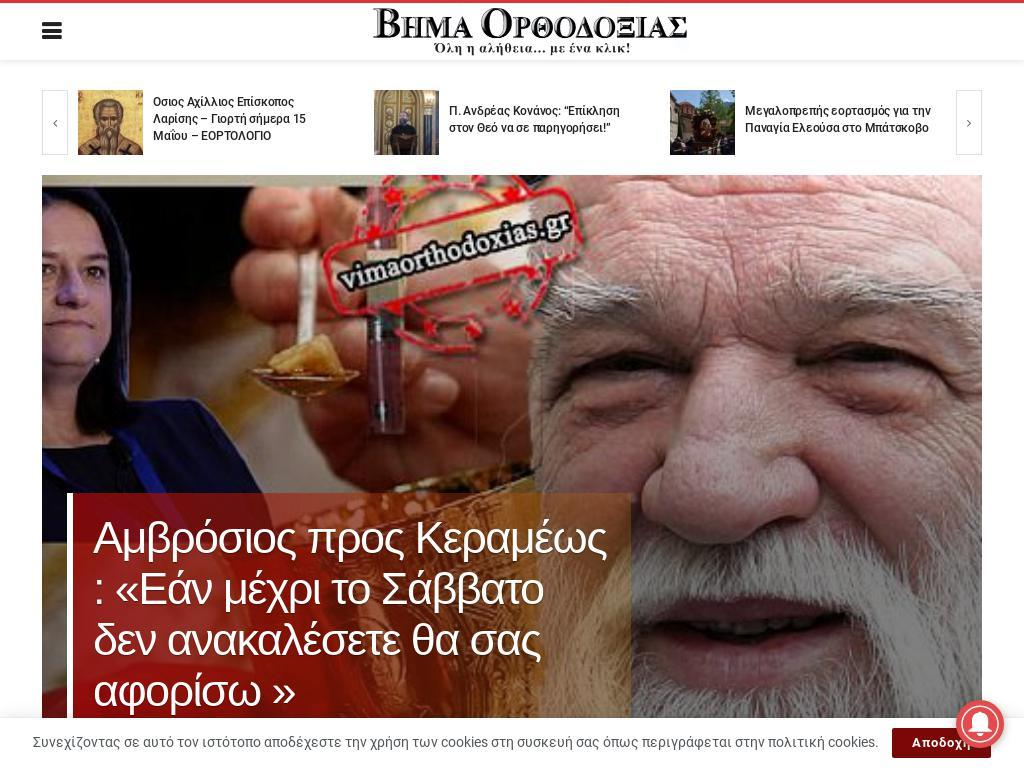button: (369, 3, 689, 60), (78, 90, 143, 155), (374, 90, 439, 155), (670, 90, 735, 155), (966, 90, 1024, 155), (892, 728, 991, 758)
heading: (93, 512, 606, 716), (369, 3, 689, 60), (153, 95, 306, 143), (745, 104, 930, 135), (449, 104, 620, 135), (0, 104, 3, 135)
image: (42, 175, 982, 765), (78, 90, 143, 155), (374, 90, 439, 155), (670, 90, 735, 155), (966, 90, 1024, 155), (956, 700, 1004, 748)
text: (33, 734, 882, 750)
